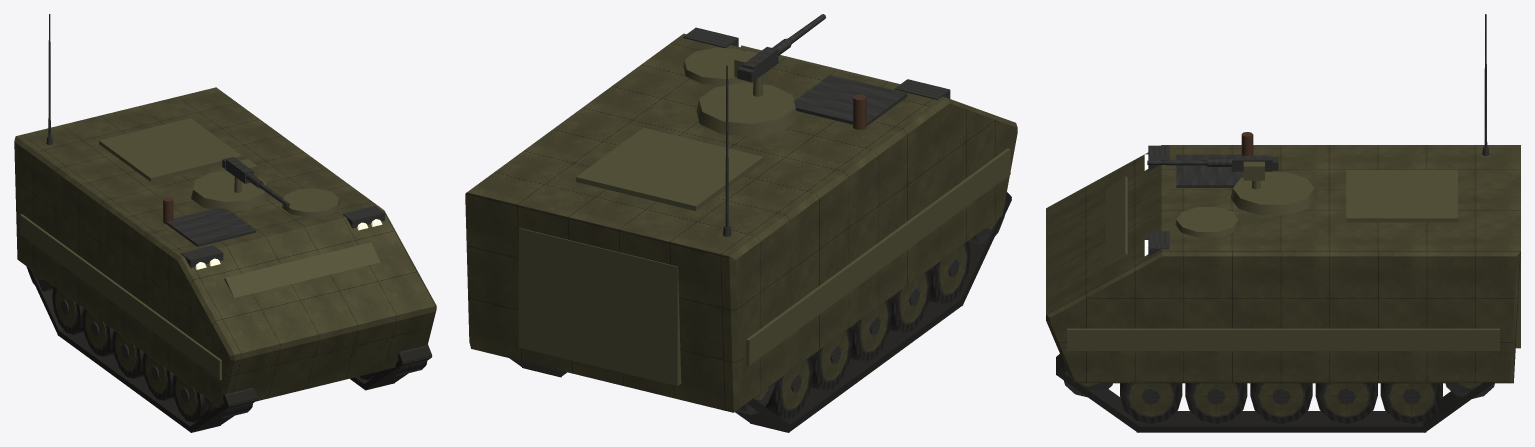
File: m113_apc_lod1.glb
3 views of the same model, side by side, from view 1: azimuth 30°, elevation 25°; view 2: azimuth 150°, elevation 25°; view 3: azimuth 270°, elevation 25° (orthographic). The views are drawn at different scales.
Parts seen in each view (by area): view 1: M113_APC; view 2: M113_APC; view 3: M113_APC.
Boxes of the visible parts, bbox=[...] form: M113_APC: bbox=[14, 14, 436, 432]; M113_APC: bbox=[465, 14, 1017, 432]; M113_APC: bbox=[1046, 14, 1520, 432].
Bounding box in the file's own units: 2.72 × 3.64 × 4.88.
7 materials, 3 textured.
